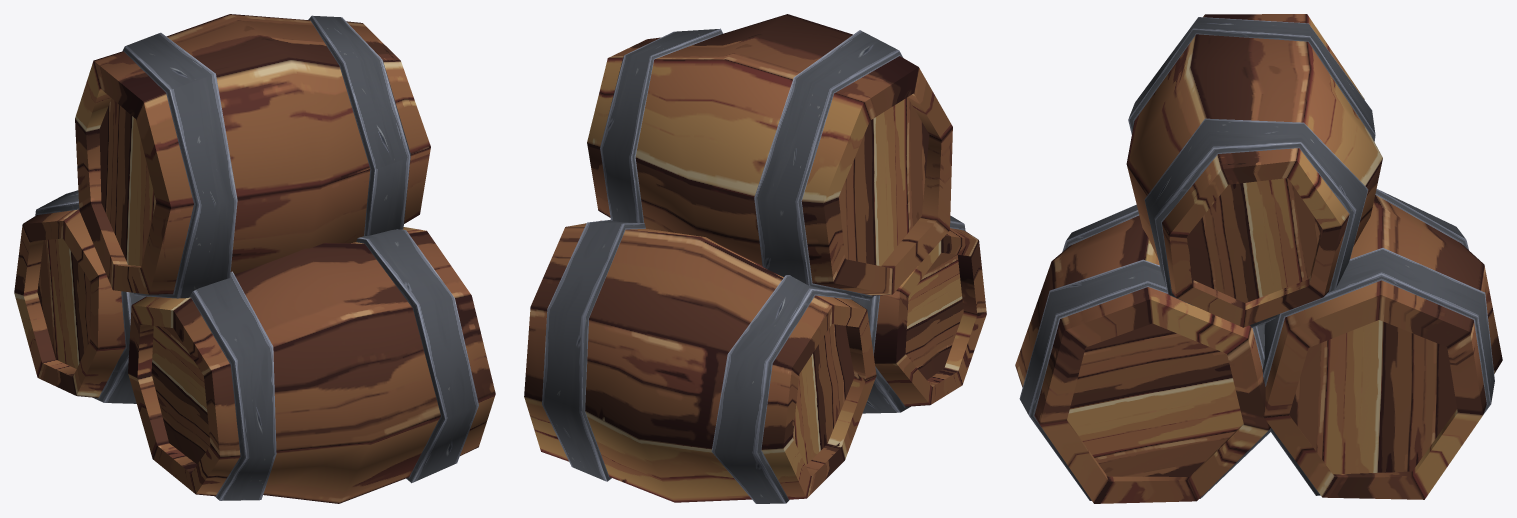
The model's file is BarrilesJuntos.fbx.
The picture shows the model from 3 angles, left to right: view 1: azimuth 30°, elevation 25°; view 2: azimuth 150°, elevation 25°; view 3: azimuth 270°, elevation 25°; orthographic projection. The views are drawn at different scales.
Parts seen in each view (by area): view 1: BarrilesJuntos; view 2: BarrilesJuntos; view 3: BarrilesJuntos.
Part boxes in pixels (x1,y1,x2,y2): BarrilesJuntos: (14,14,495,503); BarrilesJuntos: (524,14,986,503); BarrilesJuntos: (1015,14,1502,503).
Bounding box in the file's own units: 92.95 × 124 × 140.
